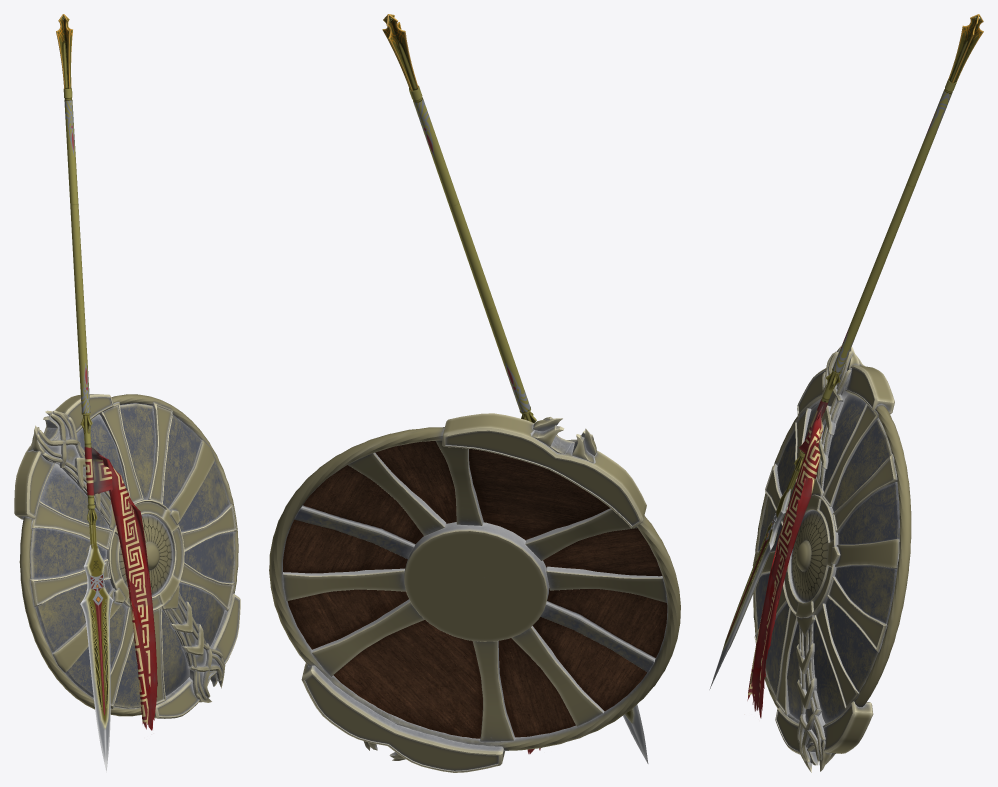
The model's file is the_god_of_war_-_draupnir_spearguardian_shield.glb.
3 views of the same model, side by side, from view 1: azimuth 30°, elevation 25°; view 2: azimuth 150°, elevation 25°; view 3: azimuth 270°, elevation 25° (orthographic). The views are drawn at different scales.
Parts seen in each view (by area): view 1: GuardianShield, Cube.068, DraupnirSpear, Plane.041, Plane.050, Circle.014, TwistedTorus, Plane.059, Cube.094, Cube.095, Plane.042; view 2: GuardianShield, Cube.068, Plane.050, Circle.014, TwistedTorus, DraupnirSpear, Cube.094, Plane.042; view 3: GuardianShield, Cube.068, DraupnirSpear, Plane.041, TwistedTorus, Plane.050, Circle.014, Plane.059, Cube.094, Cube.095, Plane.042.
Boxes of the visible parts, bbox=[...] form: GuardianShield: bbox=[30, 403, 234, 708]; Cube.068: bbox=[30, 402, 236, 708]; DraupnirSpear: bbox=[63, 40, 113, 772]; Plane.041: bbox=[91, 447, 157, 730]; Plane.050: bbox=[14, 394, 240, 718]; Circle.014: bbox=[106, 500, 184, 610]; TwistedTorus: bbox=[19, 394, 238, 716]; Plane.059: bbox=[36, 410, 224, 700]; Cube.094: bbox=[27, 410, 225, 702]; Cube.095: bbox=[74, 457, 203, 655]; Plane.042: bbox=[56, 14, 72, 88]; GuardianShield: bbox=[283, 441, 667, 738]; Cube.068: bbox=[282, 440, 666, 742]; Plane.050: bbox=[301, 413, 646, 772]; Circle.014: bbox=[404, 522, 549, 641]; TwistedTorus: bbox=[269, 427, 680, 750]; DraupnirSpear: bbox=[397, 40, 648, 763]; Cube.094: bbox=[363, 418, 596, 760]; Plane.042: bbox=[382, 14, 418, 91]; GuardianShield: bbox=[752, 393, 899, 723]; Cube.068: bbox=[754, 403, 897, 715]; DraupnirSpear: bbox=[709, 37, 969, 689]; Plane.041: bbox=[747, 404, 823, 718]; TwistedTorus: bbox=[753, 402, 911, 724]; Plane.050: bbox=[775, 365, 894, 754]; Circle.014: bbox=[783, 494, 838, 617]; Plane.059: bbox=[797, 351, 852, 762]; Cube.094: bbox=[799, 346, 864, 772]; Cube.095: bbox=[796, 405, 835, 709]; Plane.042: bbox=[948, 14, 983, 83].
Size of the model in its own units: 0.8504 by 2.01 by 0.6942.
2 materials, 2 textured.
